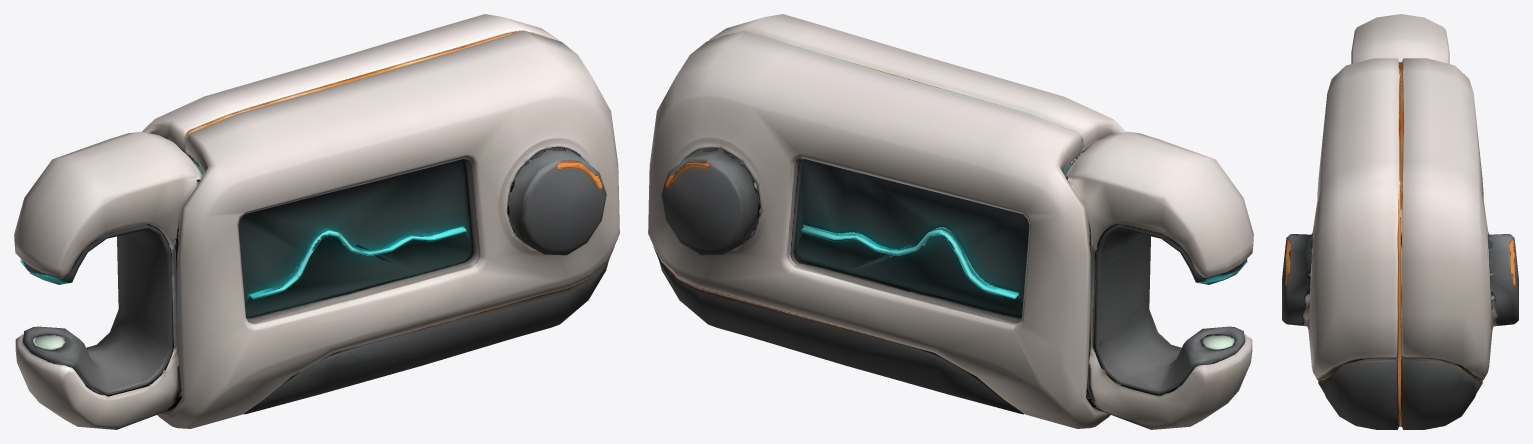
The picture shows the model from 3 angles, left to right: view 1: azimuth 30°, elevation 25°; view 2: azimuth 150°, elevation 25°; view 3: azimuth 270°, elevation 25°; orthographic projection. The views are drawn at different scales.
Visible parts, largest first — view 1: tripo_node_eed3b2ed-38ac-469d-9fab-2f99b04b7a4d; view 2: tripo_node_eed3b2ed-38ac-469d-9fab-2f99b04b7a4d; view 3: tripo_node_eed3b2ed-38ac-469d-9fab-2f99b04b7a4d.
Boxes of the visible parts, box(x1,y1,x2,y2) form: tripo_node_eed3b2ed-38ac-469d-9fab-2f99b04b7a4d: box(14, 14, 619, 429); tripo_node_eed3b2ed-38ac-469d-9fab-2f99b04b7a4d: box(648, 14, 1253, 429); tripo_node_eed3b2ed-38ac-469d-9fab-2f99b04b7a4d: box(1282, 14, 1518, 429).
Size of the model in its own units: 0.9775 by 0.4993 by 0.4113.
Materials: 1 (1 with a texture image).
